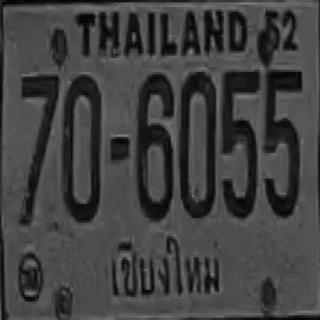N00: (62, 74, 101, 223), (179, 70, 215, 218)
N05: (220, 70, 260, 218), (264, 68, 303, 219)
N06: (136, 73, 173, 219)
N07: (20, 73, 58, 226)
P11: (107, 234, 228, 310)
